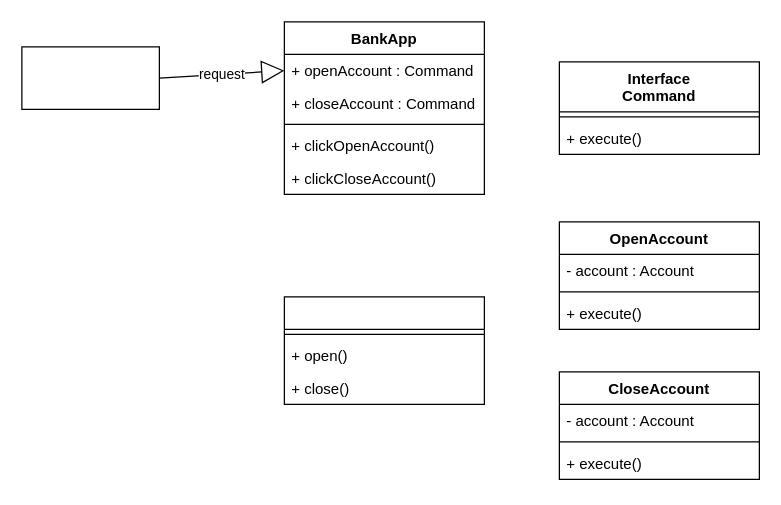
Some shapes in this 781 by 505 pixel diagram are drawn without their labels. The shapes that lost their labels are listed below. From the top down, each one's box as (x1, y1, x2, y2) in pixels, then its label:
(21, 46, 159, 109): Client
(283, 296, 484, 404): Account
